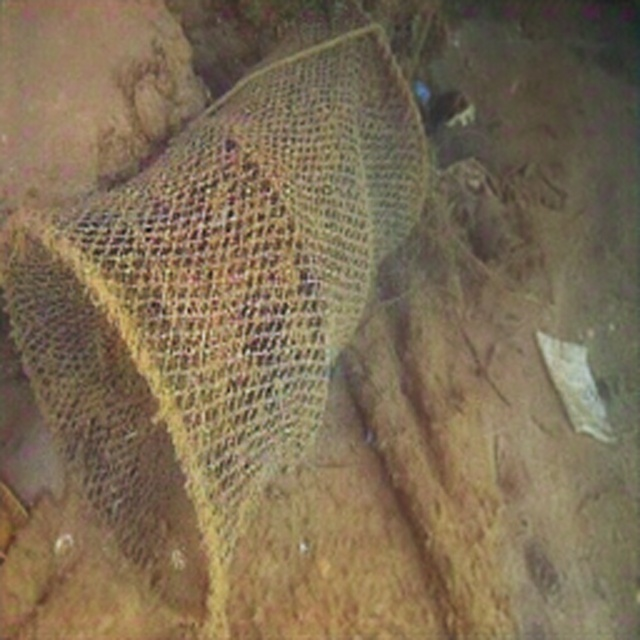mine: (0, 6, 428, 639)
